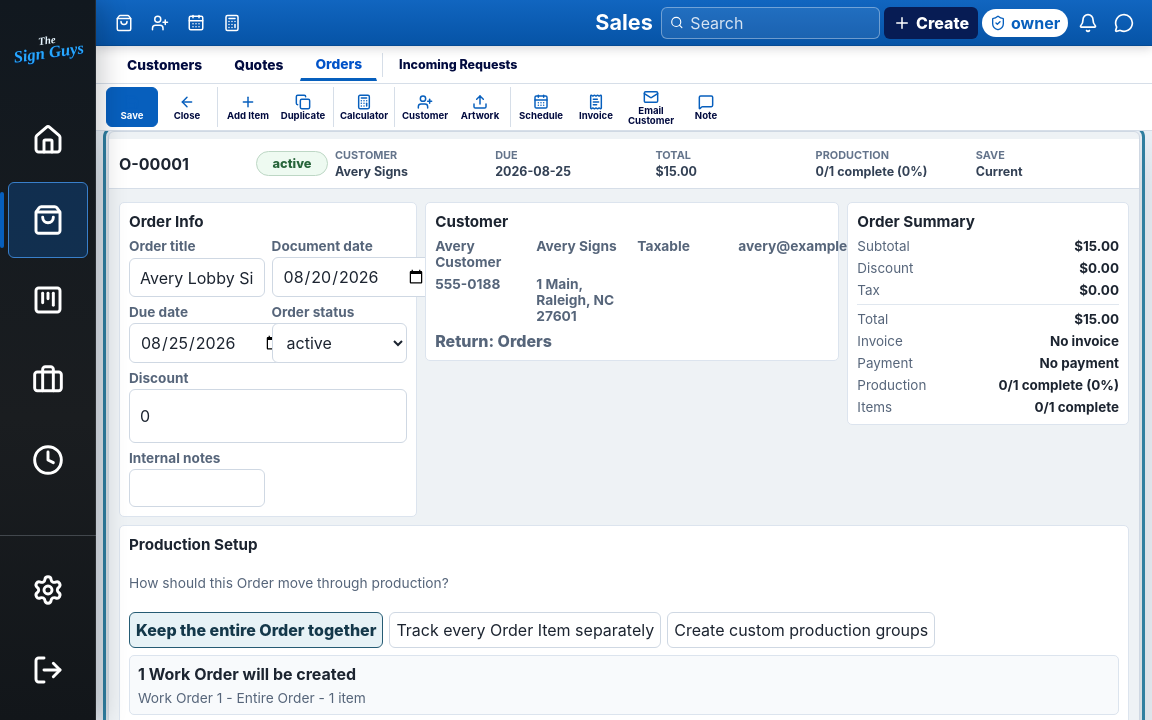
Part 2 UI › guards dirty hash navigation and restores the Workspace route when cancelled
Expected: the heading "Order Info" is shown, [129,212,204,231]
Type "Unsaved note" into the field labelled "Internal notes" at (197, 488), box [129,469,265,507]
(page scrolled)
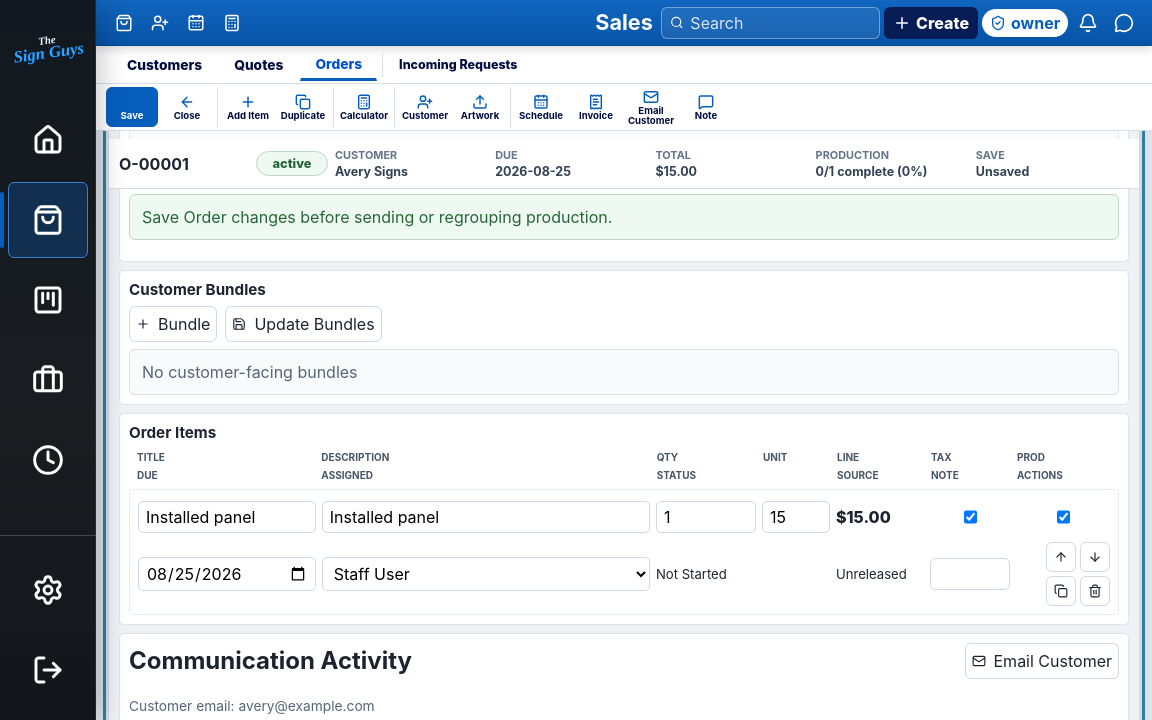
Expected: the text "Save Unsaved" is shown, [976,148,1029,179]
